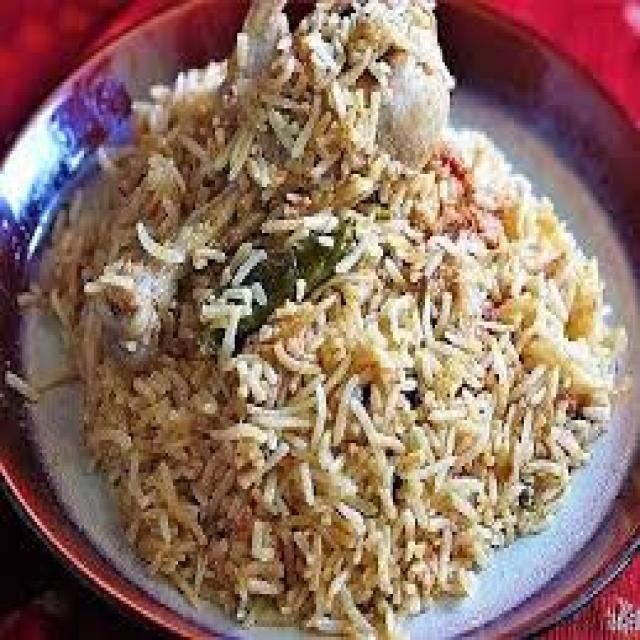Wet Waste: (37, 4, 633, 634)
